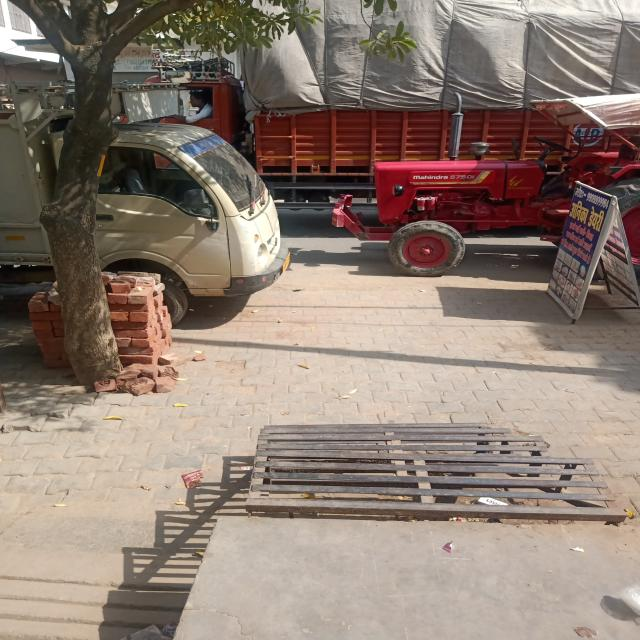Truck: (181, 0, 640, 191)
tempo: (0, 73, 275, 350)
tractor: (343, 100, 640, 297)
